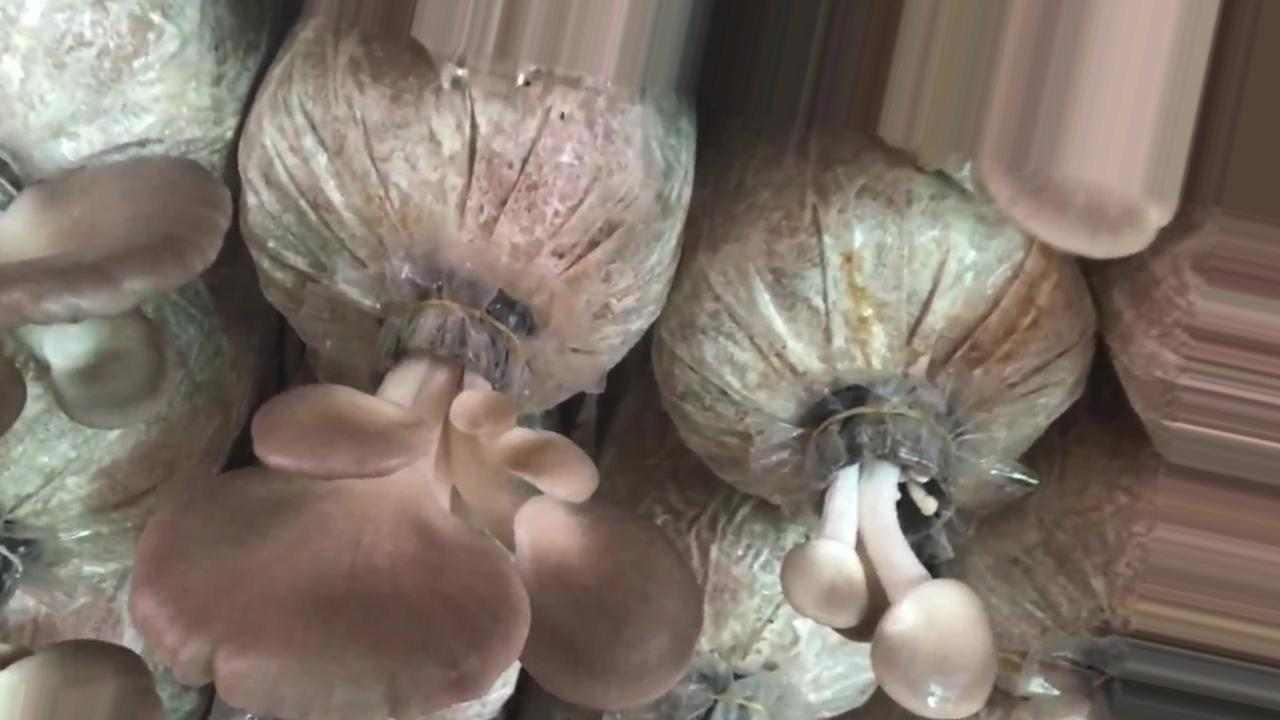nam: (136, 299, 695, 720), (781, 409, 999, 717), (1, 159, 250, 423)
